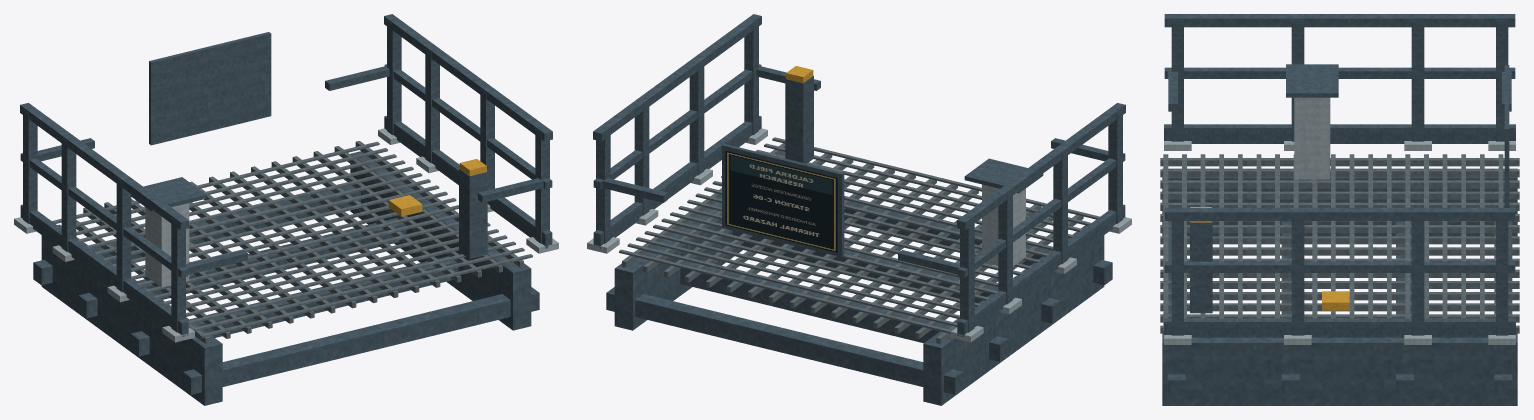
Rendered from PZ_Caldera_InspectionDeck_04x03m.glb.
3 renders of one model, left to right at view 1: azimuth 30°, elevation 25°; view 2: azimuth 150°, elevation 25°; view 3: azimuth 270°, elevation 25°, orthographic. The views are drawn at different scales.
Parts seen in each view (by area): view 1: PZ_Caldera_InspectionDeck_04x03m_GRATE_TRANSVERSE_BARS, PZ_Caldera_InspectionDeck_04x03m_TRANSVERSE_PLATFORM_STRINGE, PZ_Caldera_InspectionDeck_04x03m_GRATE_LONGITUDINAL_RUNNERS, PZ_Caldera_InspectionDeck_04x03m_SIGN_BACKING_PLATE, PZ_Caldera_InspectionDeck_04x03m_OUTER_BEAM_L, PZ_Caldera_InspectionDeck_04x03m_LEFT_UPRIGHT_POSTS, PZ_Caldera_InspectionDeck_04x03m_RIGHT_UPRIGHT_POSTS, PZ_Caldera_InspectionDeck_04x03m_OUTER_BEAM_R, PZ_Caldera_InspectionDeck_04x03m_LEFT_TOE_KICK_PLATE, PZ_Caldera_InspectionDeck_04x03m_RIGHT_TOP_HANDRAIL, PZ_Caldera_InspectionDeck_04x03m_LEFT_TOP_HANDRAIL, PZ_Caldera_InspectionDeck_04x03m_RIGHT_TOE_KICK_PLATE (+11 smaller); view 2: PZ_Caldera_InspectionDeck_04x03m_GRATE_TRANSVERSE_BARS, PZ_Caldera_InspectionDeck_04x03m_TRANSVERSE_PLATFORM_STRINGE, PZ_Caldera_InspectionDeck_04x03m_GRATE_LONGITUDINAL_RUNNERS, PZ_Caldera_InspectionDeck_04x03m_CALDERA_FIELD_RESEARCH_SIGN, PZ_Caldera_InspectionDeck_04x03m_OUTER_BEAM_L, PZ_Caldera_InspectionDeck_04x03m_LEFT_UPRIGHT_POSTS, PZ_Caldera_InspectionDeck_04x03m_RIGHT_UPRIGHT_POSTS, PZ_Caldera_InspectionDeck_04x03m_OUTER_BEAM_R, PZ_Caldera_InspectionDeck_04x03m_LEFT_TOE_KICK_PLATE, PZ_Caldera_InspectionDeck_04x03m_RIGHT_TOP_HANDRAIL, PZ_Caldera_InspectionDeck_04x03m_LEFT_TOP_HANDRAIL, PZ_Caldera_InspectionDeck_04x03m_RIGHT_TOE_KICK_PLATE (+11 smaller); view 3: PZ_Caldera_InspectionDeck_04x03m_GRATE_LONGITUDINAL_RUNNERS, PZ_Caldera_InspectionDeck_04x03m_OUTER_BEAM_R, PZ_Caldera_InspectionDeck_04x03m_GRATE_TRANSVERSE_BARS, PZ_Caldera_InspectionDeck_04x03m_RIGHT_UPRIGHT_POSTS, PZ_Caldera_InspectionDeck_04x03m_RIGHT_TOE_KICK_PLATE, PZ_Caldera_InspectionDeck_04x03m_LEFT_TOE_KICK_PLATE, PZ_Caldera_InspectionDeck_04x03m_OUTER_BEAM_L, PZ_Caldera_InspectionDeck_04x03m_LEFT_UPRIGHT_POSTS, PZ_Caldera_InspectionDeck_04x03m_LEFT_TOP_HANDRAIL, PZ_Caldera_InspectionDeck_04x03m_RIGHT_TOP_HANDRAIL, PZ_Caldera_InspectionDeck_04x03m_RIGHT_MID_HANDRAIL, PZ_Caldera_InspectionDeck_04x03m_LEFT_MID_HANDRAIL (+9 smaller).
Boxes of the visible parts, box(x1,y1,x2,y2) form: PZ_Caldera_InspectionDeck_04x03m_GRATE_TRANSVERSE_BARS: box(52, 141, 532, 337); PZ_Caldera_InspectionDeck_04x03m_TRANSVERSE_PLATFORM_STRINGE: box(33, 185, 539, 394); PZ_Caldera_InspectionDeck_04x03m_GRATE_LONGITUDINAL_RUNNERS: box(76, 141, 523, 343); PZ_Caldera_InspectionDeck_04x03m_SIGN_BACKING_PLATE: box(149, 32, 271, 145); PZ_Caldera_InspectionDeck_04x03m_OUTER_BEAM_L: box(41, 224, 222, 405); PZ_Caldera_InspectionDeck_04x03m_LEFT_UPRIGHT_POSTS: box(23, 109, 185, 332); PZ_Caldera_InspectionDeck_04x03m_RIGHT_UPRIGHT_POSTS: box(387, 20, 549, 243); PZ_Caldera_InspectionDeck_04x03m_OUTER_BEAM_R: box(350, 151, 531, 330); PZ_Caldera_InspectionDeck_04x03m_LEFT_TOE_KICK_PLATE: box(20, 204, 188, 336); PZ_Caldera_InspectionDeck_04x03m_RIGHT_TOP_HANDRAIL: box(384, 14, 552, 141); PZ_Caldera_InspectionDeck_04x03m_LEFT_TOP_HANDRAIL: box(20, 103, 188, 230); PZ_Caldera_InspectionDeck_04x03m_RIGHT_TOE_KICK_PLATE: box(384, 116, 552, 248); PZ_Caldera_InspectionDeck_04x03m_GRATE_TRANSVERSE_BARS: box(619, 137, 1099, 333); PZ_Caldera_InspectionDeck_04x03m_TRANSVERSE_PLATFORM_STRINGE: box(606, 200, 1112, 394); PZ_Caldera_InspectionDeck_04x03m_GRATE_LONGITUDINAL_RUNNERS: box(622, 143, 1083, 343); PZ_Caldera_InspectionDeck_04x03m_CALDERA_FIELD_RESEARCH_SIGN: box(725, 150, 837, 252); PZ_Caldera_InspectionDeck_04x03m_OUTER_BEAM_L: box(923, 225, 1104, 405); PZ_Caldera_InspectionDeck_04x03m_LEFT_UPRIGHT_POSTS: box(960, 109, 1122, 332); PZ_Caldera_InspectionDeck_04x03m_RIGHT_UPRIGHT_POSTS: box(596, 20, 758, 243); PZ_Caldera_InspectionDeck_04x03m_OUTER_BEAM_R: box(614, 152, 785, 330); PZ_Caldera_InspectionDeck_04x03m_LEFT_TOE_KICK_PLATE: box(957, 204, 1125, 336); PZ_Caldera_InspectionDeck_04x03m_RIGHT_TOP_HANDRAIL: box(593, 14, 761, 141); PZ_Caldera_InspectionDeck_04x03m_LEFT_TOP_HANDRAIL: box(957, 103, 1125, 230); PZ_Caldera_InspectionDeck_04x03m_RIGHT_TOE_KICK_PLATE: box(593, 116, 761, 248); PZ_Caldera_InspectionDeck_04x03m_GRATE_LONGITUDINAL_RUNNERS: box(1160, 158, 1519, 333); PZ_Caldera_InspectionDeck_04x03m_OUTER_BEAM_R: box(1162, 333, 1517, 405); PZ_Caldera_InspectionDeck_04x03m_GRATE_TRANSVERSE_BARS: box(1163, 154, 1503, 332); PZ_Caldera_InspectionDeck_04x03m_RIGHT_UPRIGHT_POSTS: box(1171, 214, 1508, 335); PZ_Caldera_InspectionDeck_04x03m_RIGHT_TOE_KICK_PLATE: box(1164, 318, 1515, 337); PZ_Caldera_InspectionDeck_04x03m_LEFT_TOE_KICK_PLATE: box(1164, 124, 1515, 143); PZ_Caldera_InspectionDeck_04x03m_OUTER_BEAM_L: box(1162, 168, 1517, 236); PZ_Caldera_InspectionDeck_04x03m_LEFT_UPRIGHT_POSTS: box(1171, 20, 1508, 141); PZ_Caldera_InspectionDeck_04x03m_LEFT_TOP_HANDRAIL: box(1164, 14, 1515, 27); PZ_Caldera_InspectionDeck_04x03m_RIGHT_TOP_HANDRAIL: box(1164, 208, 1515, 220); PZ_Caldera_InspectionDeck_04x03m_RIGHT_MID_HANDRAIL: box(1164, 261, 1515, 272); PZ_Caldera_InspectionDeck_04x03m_LEFT_MID_HANDRAIL: box(1164, 67, 1515, 78).
Size of the model in its own units: 4.03 by 2.04 by 2.99.
Materials: 5 (5 with a texture image).
